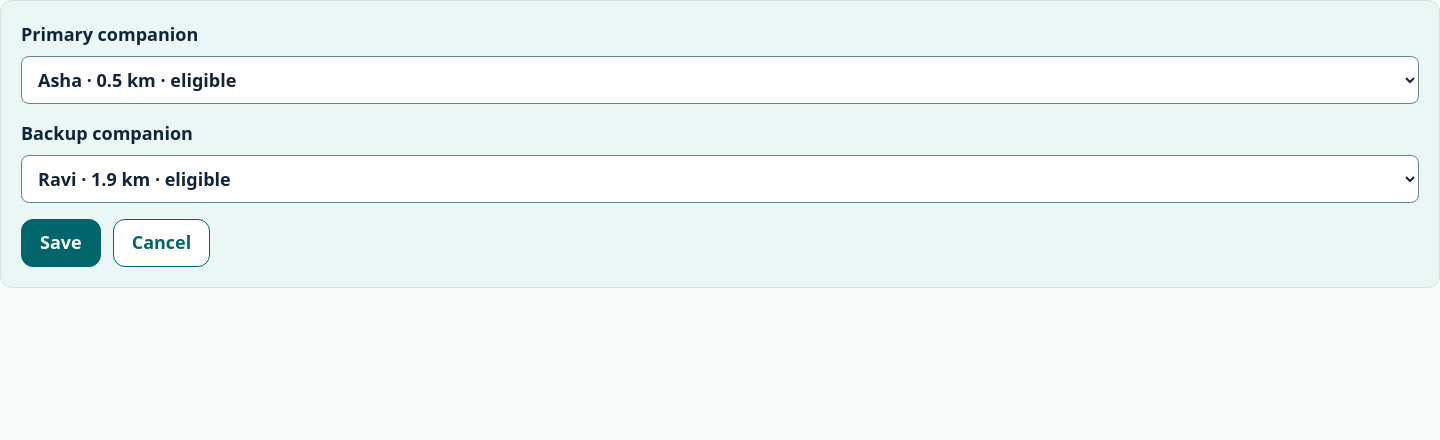
Test: ScheduleAssignForm › shows the database error and stays open
Select "Far · 9.1 km · outside radius" in the dropdown labelled "Backup companion": (720, 179) [21, 155, 1419, 203]
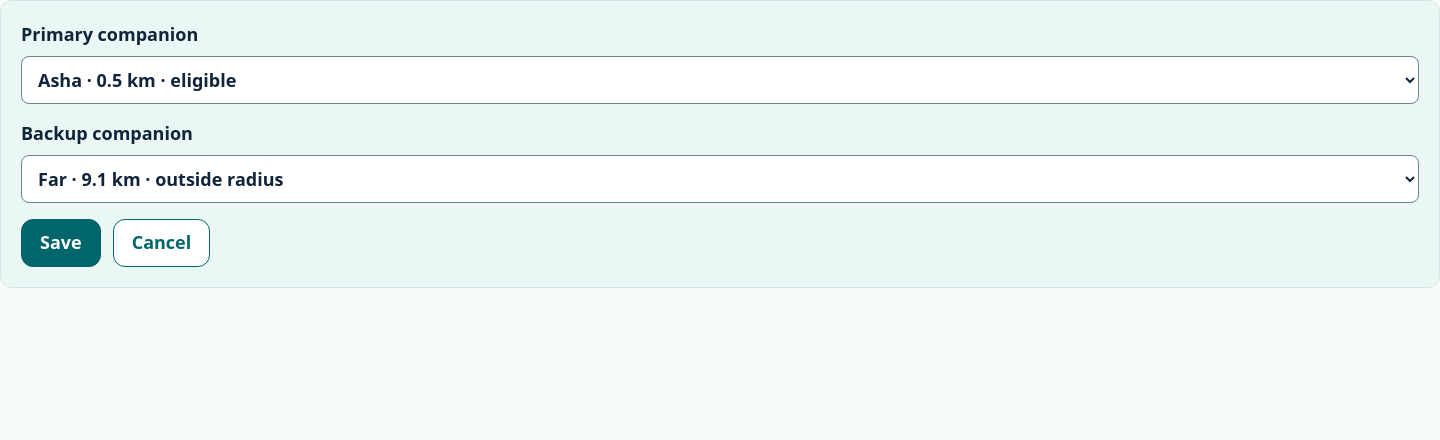
Click the button "Save": (61, 243) [21, 219, 101, 267]
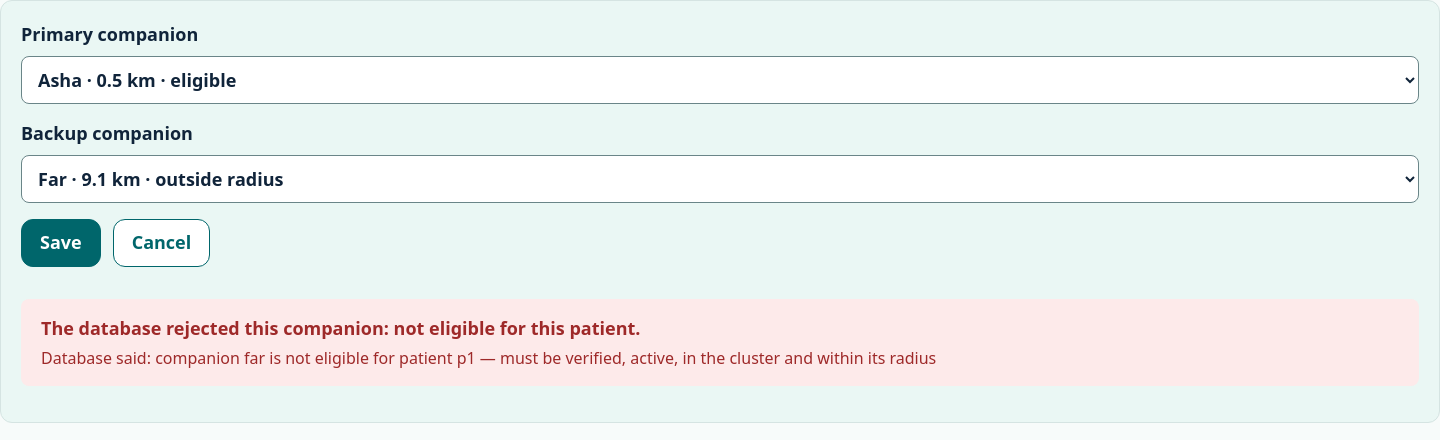
Now the message shows "not eligible", box [41, 316, 640, 340]
